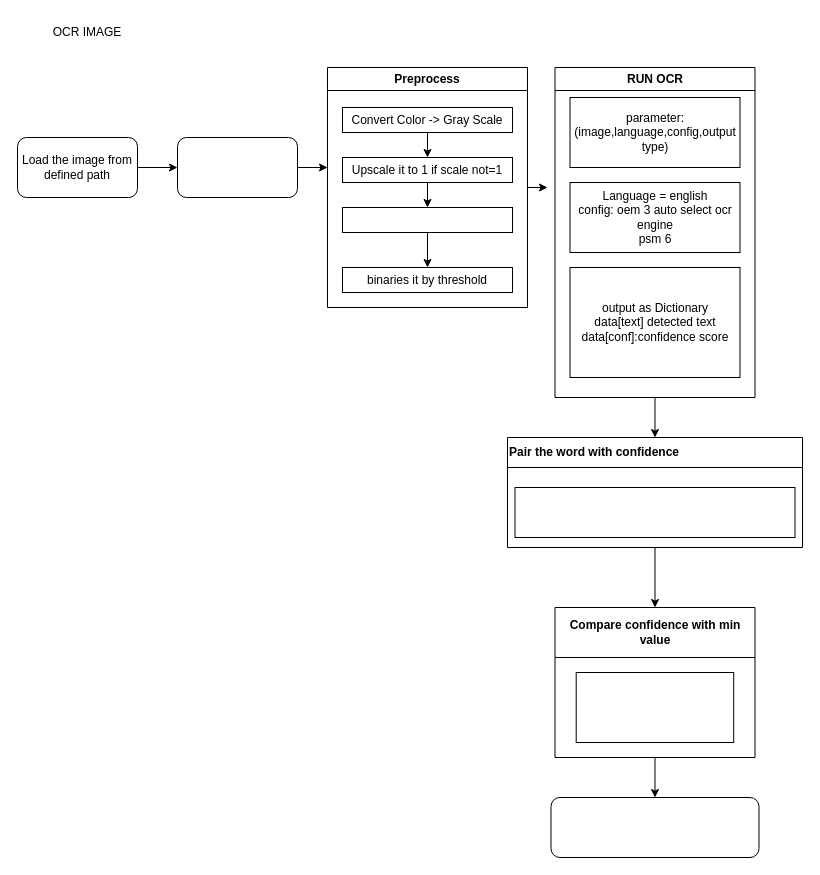
Some shapes in this 820 by 875 pixel diagram are drawn without their labels. Each missing label, with the centre of its shape:
After compare confidence, join the word " " . join( words ): point (654, 827)
denoise it by medianblur: point (427, 219)
if w . strip() and int ( c ) >= min_conf: point (654, 707)
Read Image by CV2 output as numpy: point (237, 167)
word= [ w for w,c in zip(data["text",data["conf"]]): point (654, 512)
